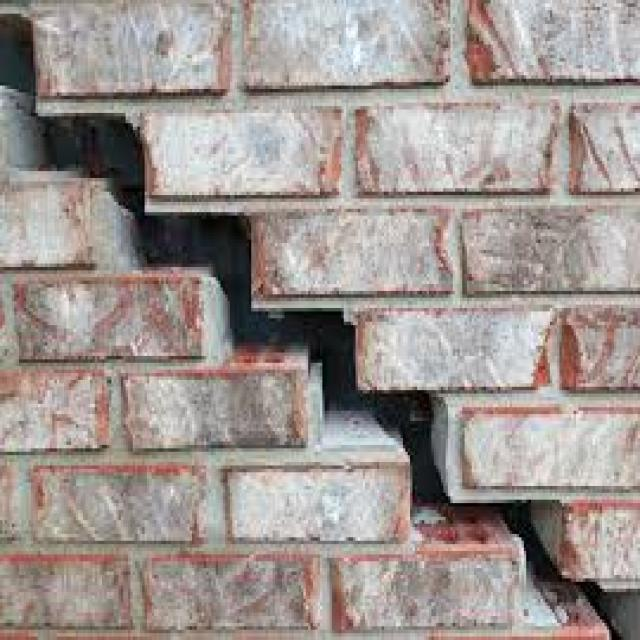Crack: (0, 7, 638, 636)
